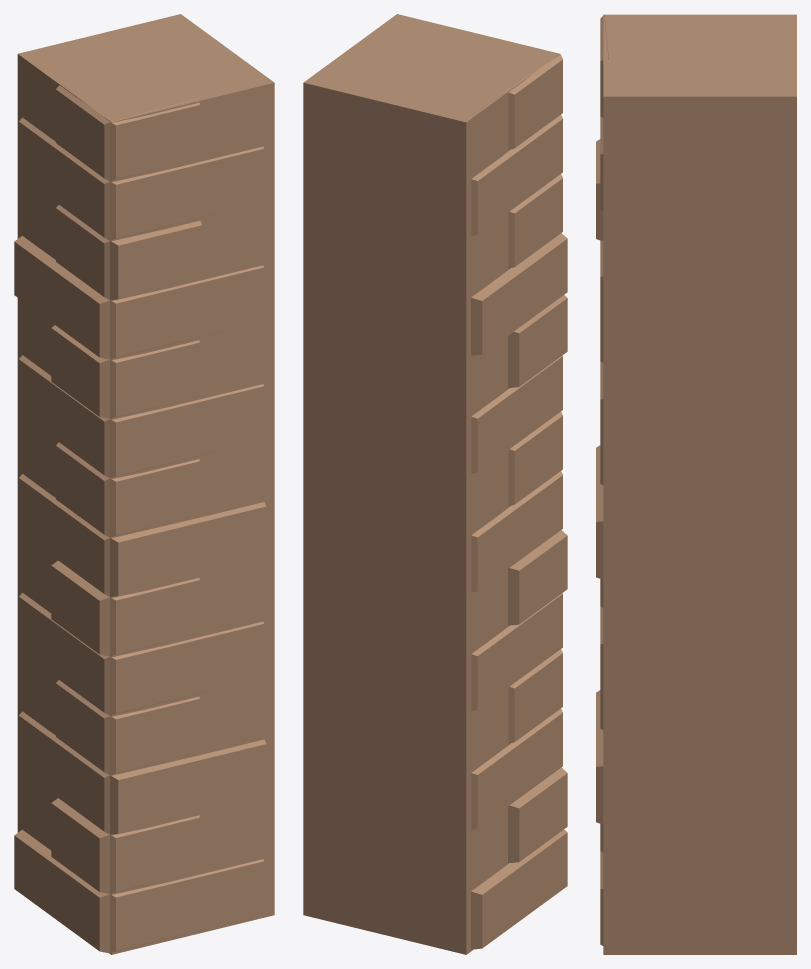
Rendered from env_block_brick_column_trim_bricks.glb.
3 views of the same model, side by side, from view 1: azimuth 30°, elevation 25°; view 2: azimuth 150°, elevation 25°; view 3: azimuth 270°, elevation 25° (orthographic). The views are drawn at different scales.
Visible parts, largest first — view 1: Brick_Column_TrimBricks.gltf; view 2: Brick_Column_TrimBricks.gltf; view 3: Brick_Column_TrimBricks.gltf.
Part boxes in pixels (x1,y1,x2,y2): Brick_Column_TrimBricks.gltf: (14, 14, 274, 954); Brick_Column_TrimBricks.gltf: (303, 14, 567, 954); Brick_Column_TrimBricks.gltf: (596, 14, 796, 954).
Bounding box in the file's own units: 0.6514 × 3 × 0.636.
